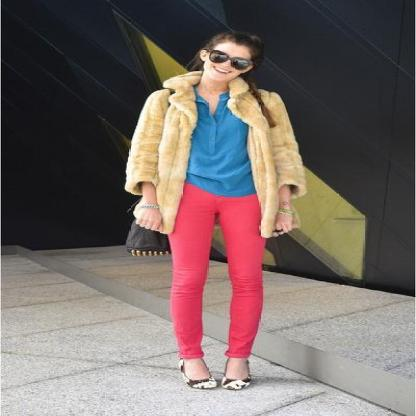bag: (118, 218, 170, 255)
jacket: (125, 72, 305, 237)
pants: (169, 181, 265, 361)
shirt: (184, 108, 256, 196)
shoe: (187, 378, 236, 390)
sunglass: (212, 43, 252, 69)
